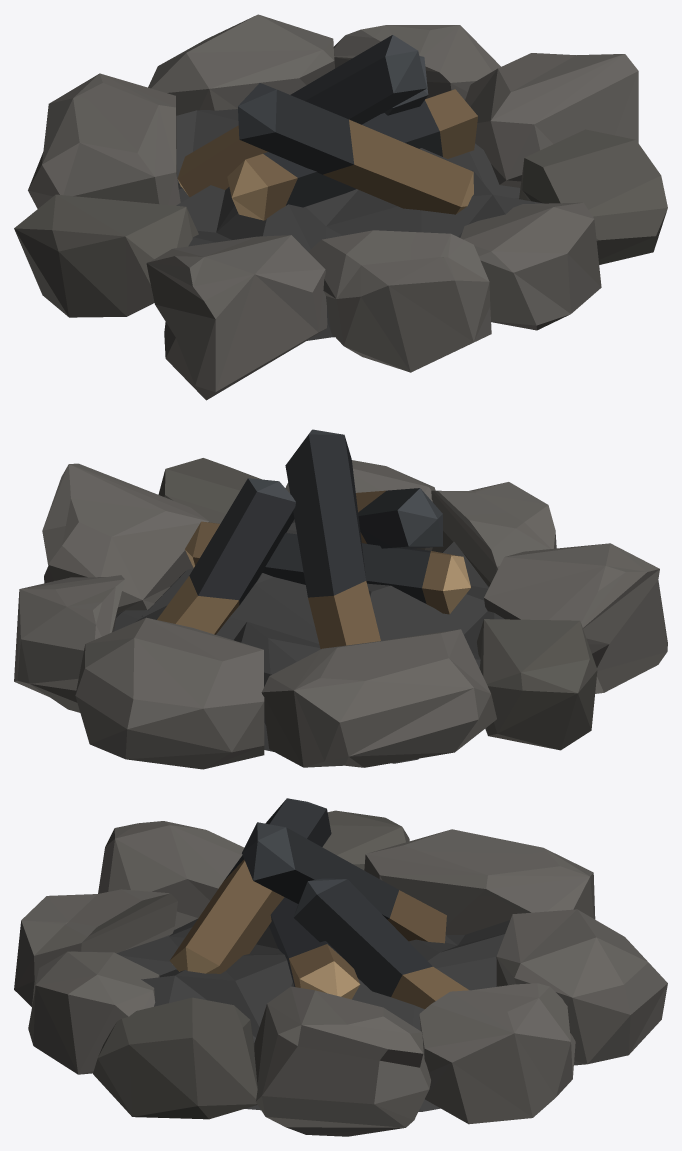
File: prop_camp_firepit.gltf
The picture shows the model from 3 angles, top to bottom: view 1: azimuth 30°, elevation 25°; view 2: azimuth 150°, elevation 25°; view 3: azimuth 270°, elevation 25°; orthographic projection. The views are drawn at different scales.
Visible parts, largest first — view 1: prop_camp_firepit; view 2: prop_camp_firepit; view 3: prop_camp_firepit.
Part boxes in pixels (x1,y1,x2,y2): prop_camp_firepit: [14, 14, 667, 400]; prop_camp_firepit: [14, 429, 667, 769]; prop_camp_firepit: [14, 798, 667, 1136].
Bounding box in the file's own units: 1.07 × 0.4275 × 1.06.
1 material, 1 textured.
